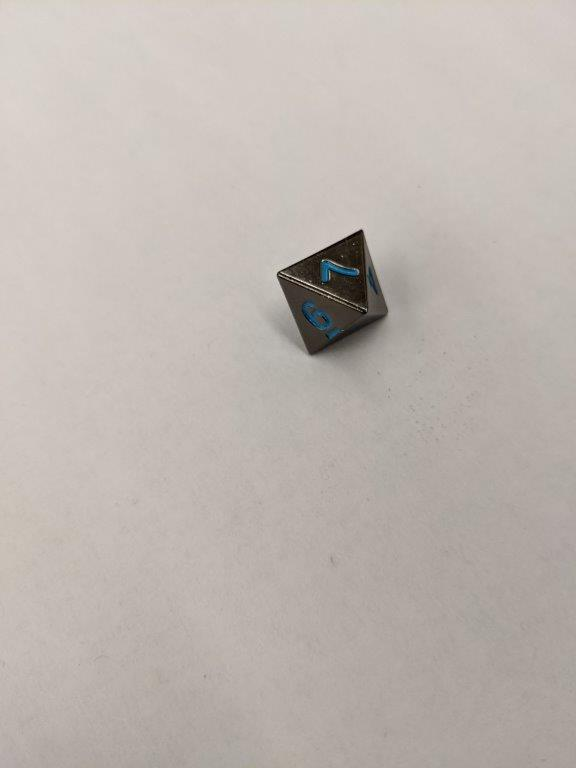d8-7: (275, 230, 390, 353)
